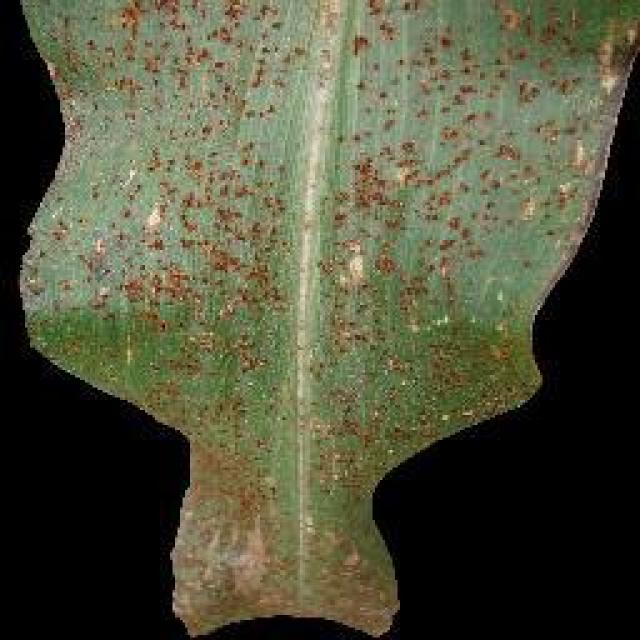Corn Common Rust: (85, 32, 477, 640)
